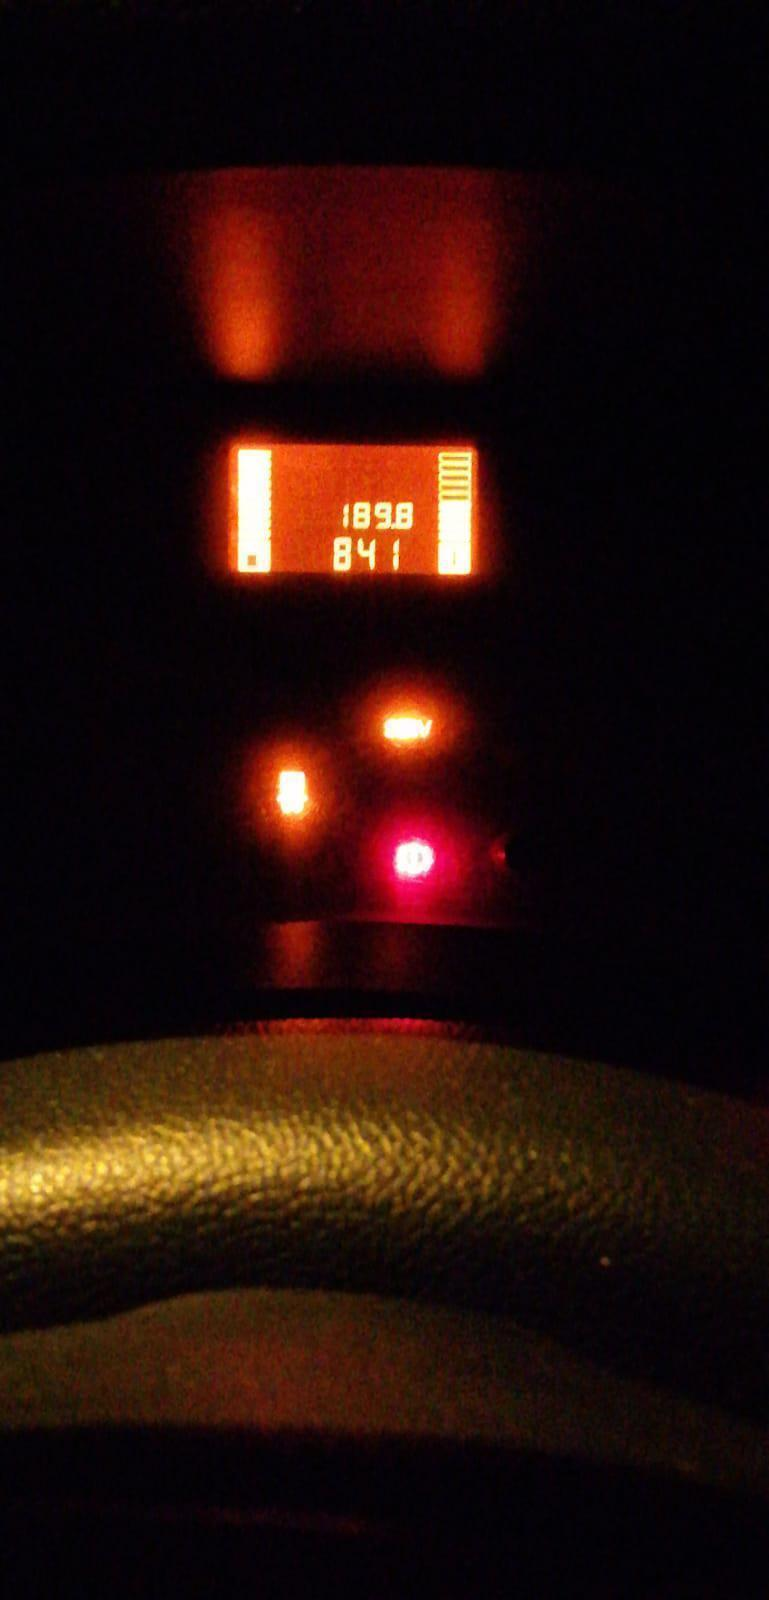,: (389, 521, 396, 530)
1: (391, 536, 400, 571), (341, 502, 351, 529)
4: (356, 536, 376, 571)
8: (331, 535, 352, 572), (351, 500, 371, 530), (394, 501, 414, 530)
9: (373, 500, 392, 530)
odometer: (216, 433, 486, 590)
